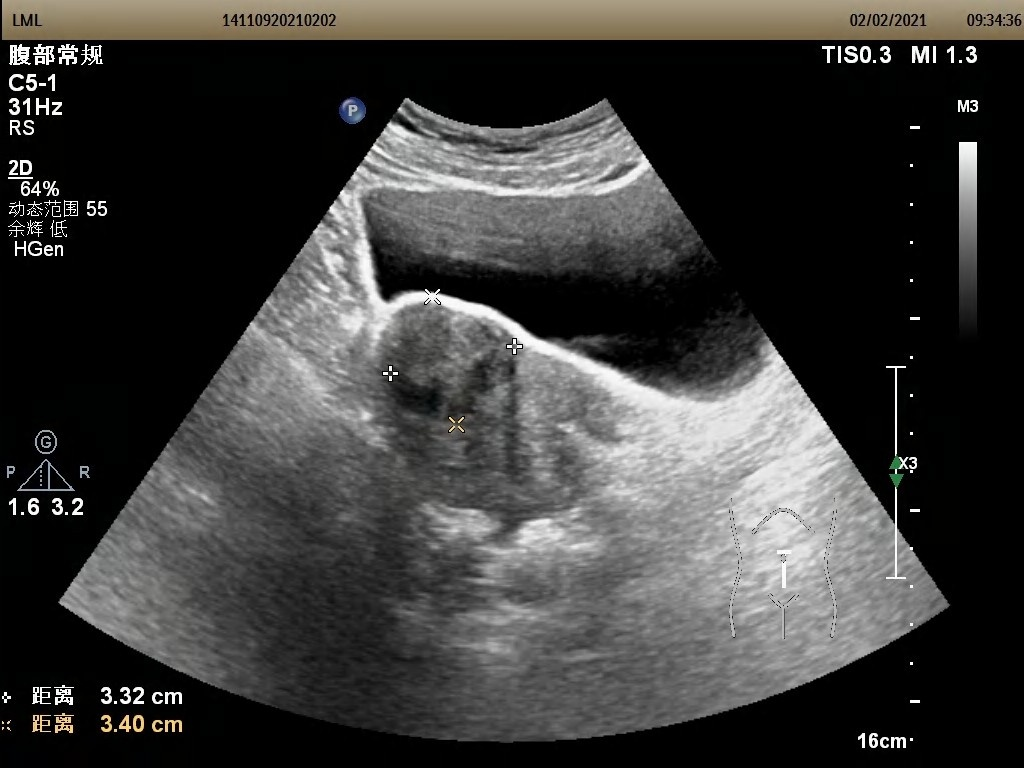肌瘤: (388, 295, 516, 426)
